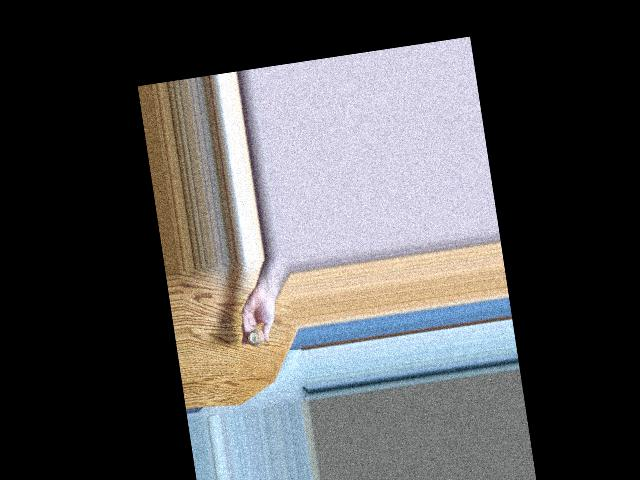sweet_potato: (247, 329, 268, 348)
